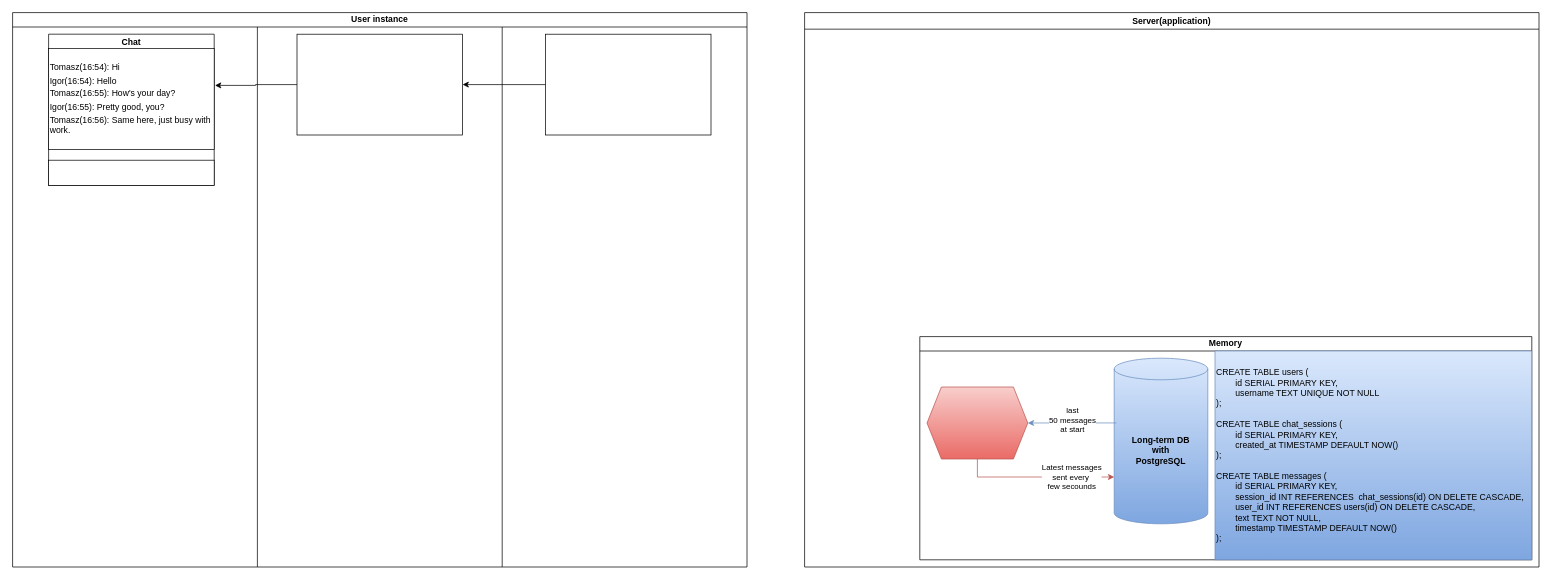
Image size: 1552x580. Some labels were removed from this diagram. The centre of each missing label's shape, as x and y in pixels:
[Input box]: the point at 131,172
Choose chat: the point at 379,84
LogIn as guest: [username]: the point at 628,84
Short-term Caching with Redis: the point at 977,422
